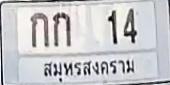1: (107, 10, 116, 44)
4: (123, 8, 136, 42)
A01: (29, 12, 48, 47), (52, 11, 70, 46)
SKM: (41, 56, 137, 82)
